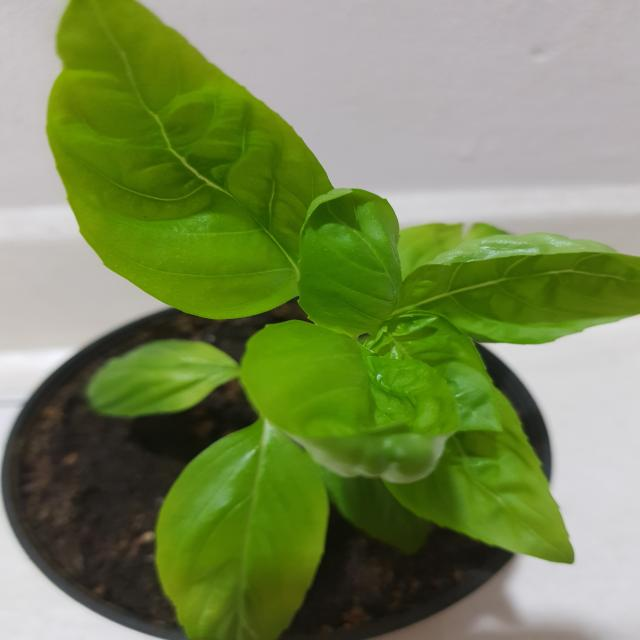Sweet Basil: (39, 0, 640, 640)
